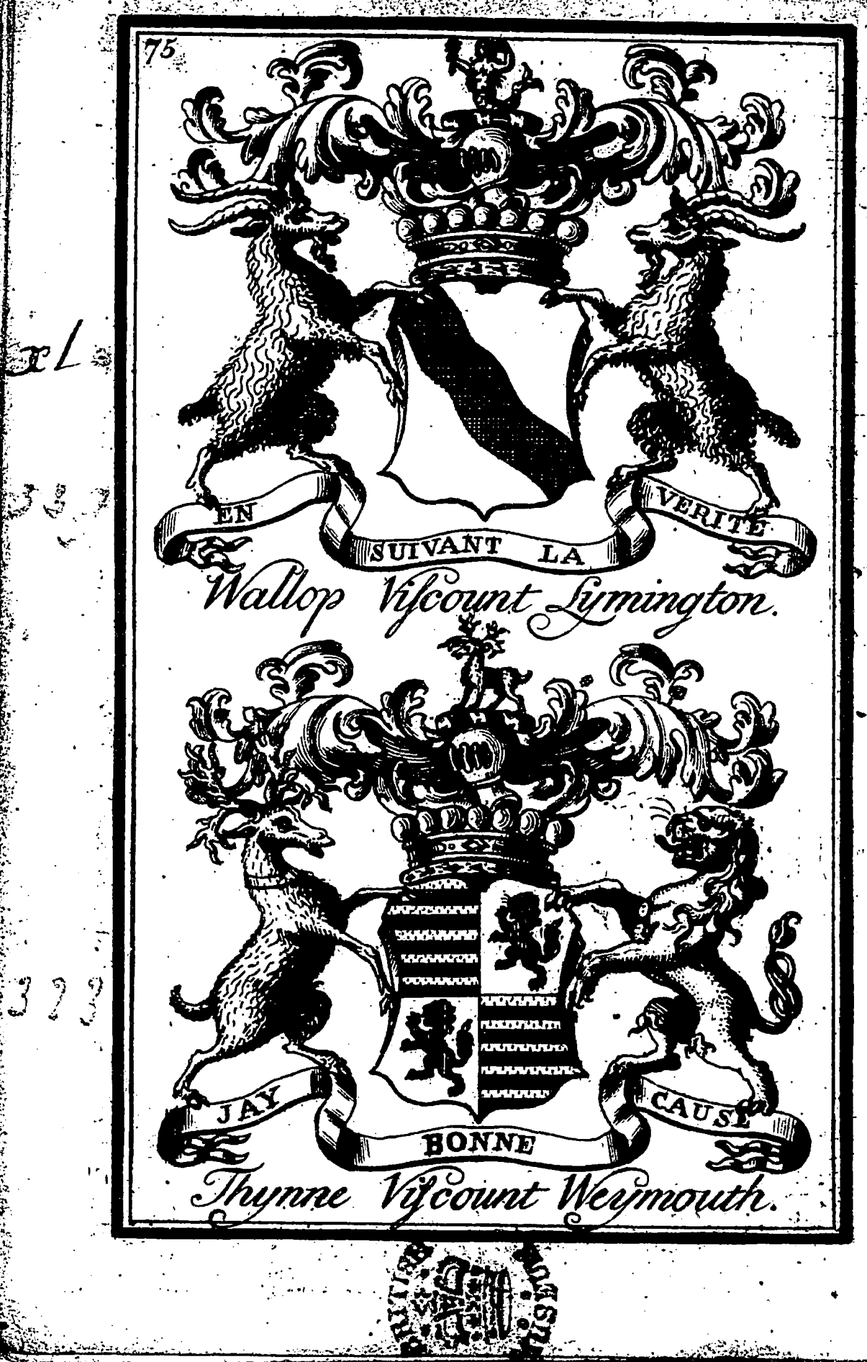coat_of_arms: (150, 39, 806, 637), (147, 636, 819, 1216)
